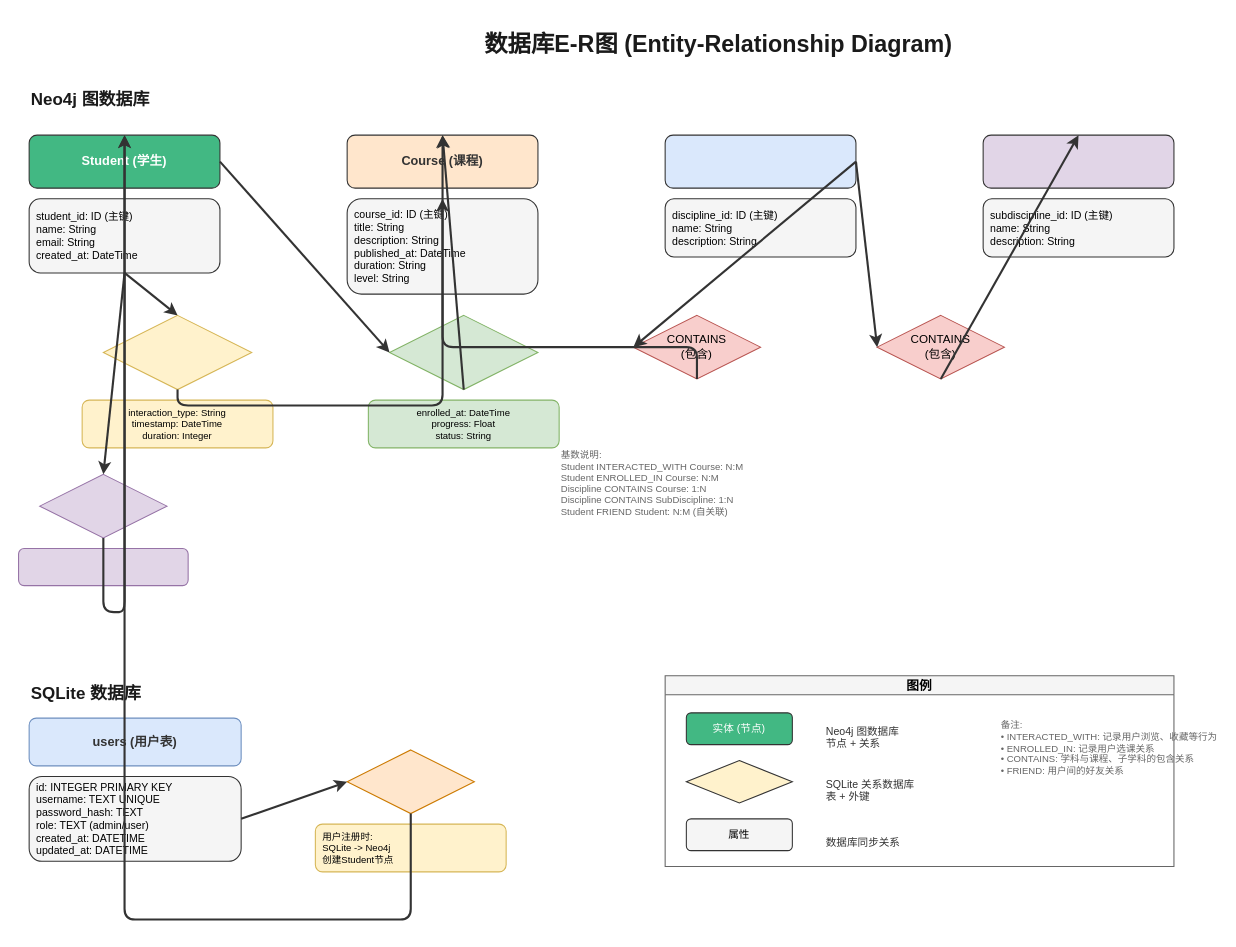
Some shapes in this 1236 by 947 pixel diagram are drawn without their labels. The centre of each missing label's shape, as x and y in pixels:
"Discipline (学科)" belongs at (760,161).
"ENROLLED_IN (选课)" belongs at (463,352).
"FRIEND (好友)" belongs at (103,505).
"friendship_date: DateTime status: String" belongs at (102,566).
"INTERACTED_WITH (用户交互)" belongs at (177,352).
"SubDiscipline (子学科)" belongs at (1078,161).
"关系" belongs at (738,781).
"用户同步 (syncStudentToNeo4j)" belongs at (410,781).
